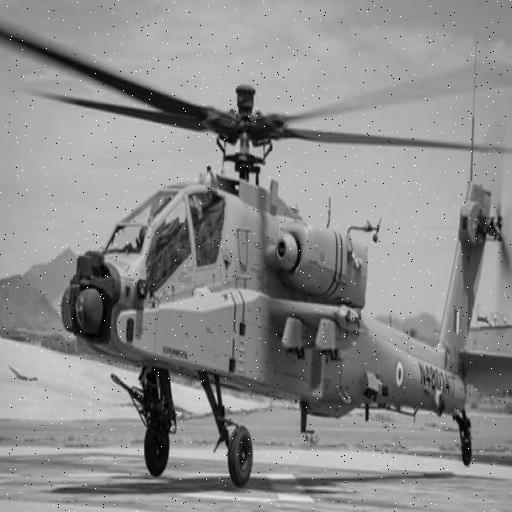helicopter: (50, 24, 512, 504)
